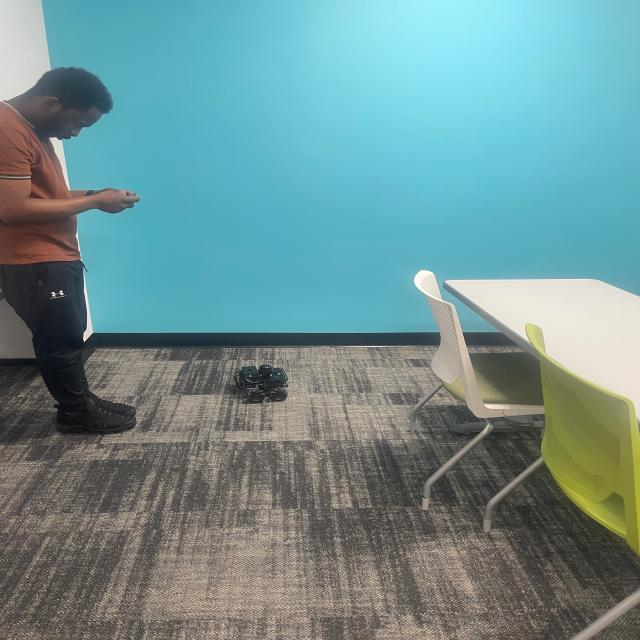ArduinoCar3: (226, 362, 296, 402)
